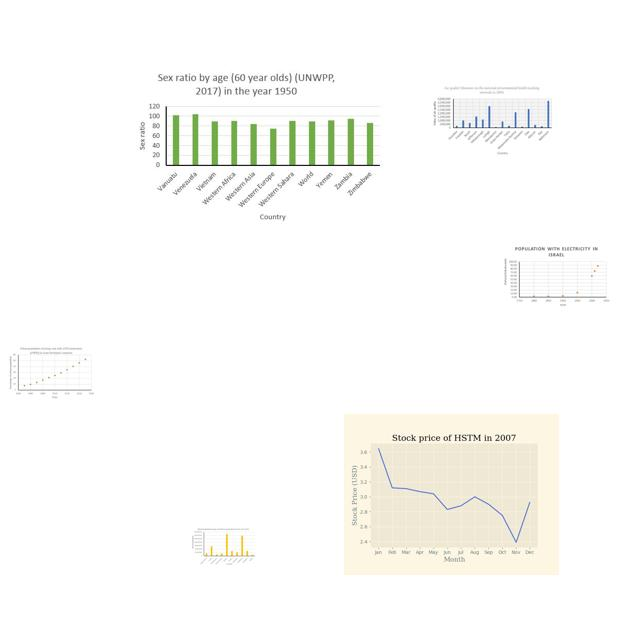Graph: (131, 66, 384, 227), (344, 414, 559, 575), (432, 84, 554, 157), (501, 244, 612, 310), (8, 346, 95, 399), (191, 527, 256, 565)
